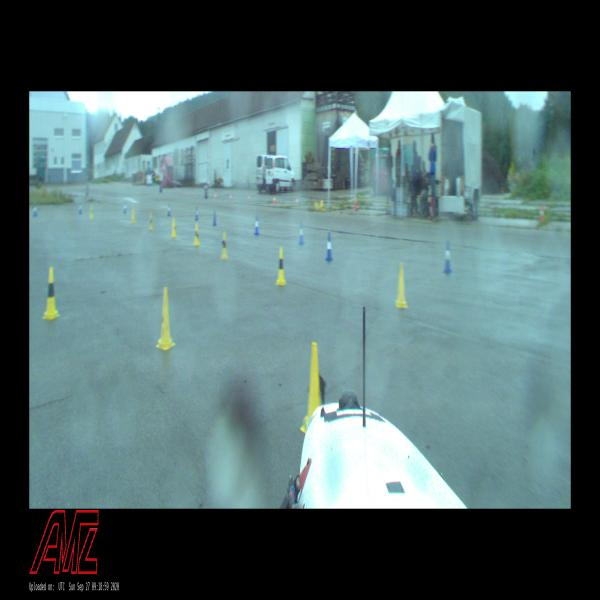blue_cone: (443, 241, 452, 273), (325, 233, 333, 261), (254, 216, 260, 235), (299, 222, 304, 244), (212, 208, 217, 226), (194, 205, 199, 220), (167, 202, 171, 215)
orange_cone: (540, 207, 544, 220)
yellow_cone: (300, 342, 320, 433), (157, 287, 176, 351), (42, 266, 60, 320), (395, 263, 408, 308), (276, 248, 286, 285), (220, 232, 228, 258), (171, 218, 177, 237), (194, 224, 199, 246), (149, 212, 153, 230)
